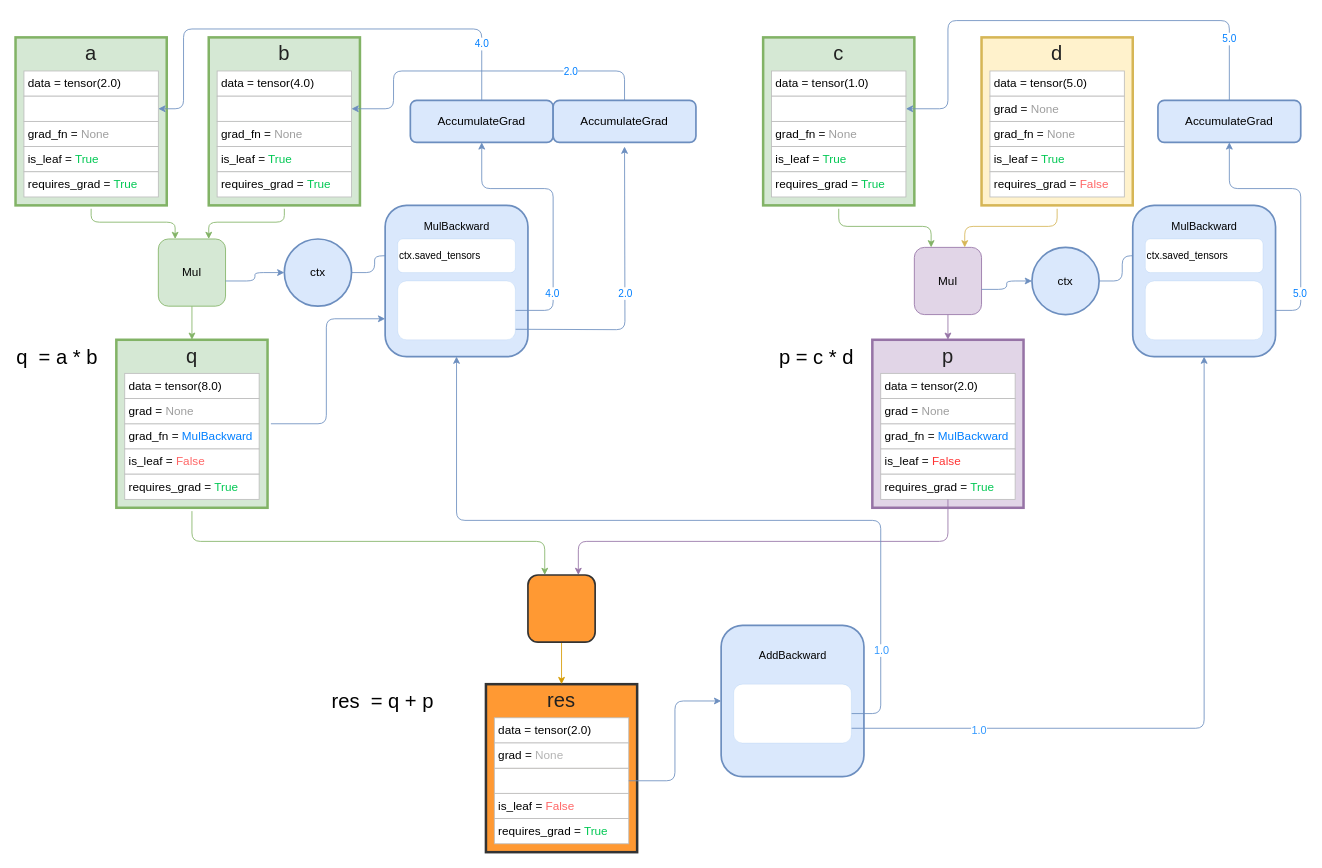
The diagram is 1322 pixels wide and 868 high, and some of its shapes have lost their labels. Here are the shapes that lost their labels. From the top down, the box of each, then its label:
(23, 95, 158, 121): grad = 4.0
(216, 95, 352, 121): grad = 2.0
(771, 95, 906, 121): grad = 5.0
(397, 281, 515, 339): next_functioins = [ (AccumulateGrad, 0), (AccumulateGrad, 0) ]
(1145, 281, 1263, 339): next_functioins = [ (AccumulateGrad, 0), (None, 0) ]
(527, 574, 596, 643): Add
(733, 684, 851, 743): next_functioins = [ (MulBackward, 0), ( MulBackward , 0) ]
(494, 767, 629, 793): grad_fn = AddBackward
